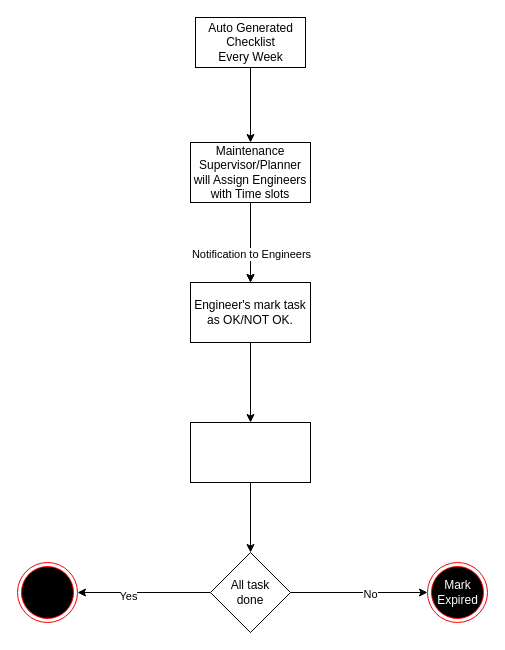
The diagram is 505 pixels wide and 650 high, and some of its shapes have lost their labels. Each missing label, with the centre of its shape:
"If any anomaly is found, Register an planned order for same" belongs at pixel 250 452.
"Mark Done" belongs at pixel 47 592.
